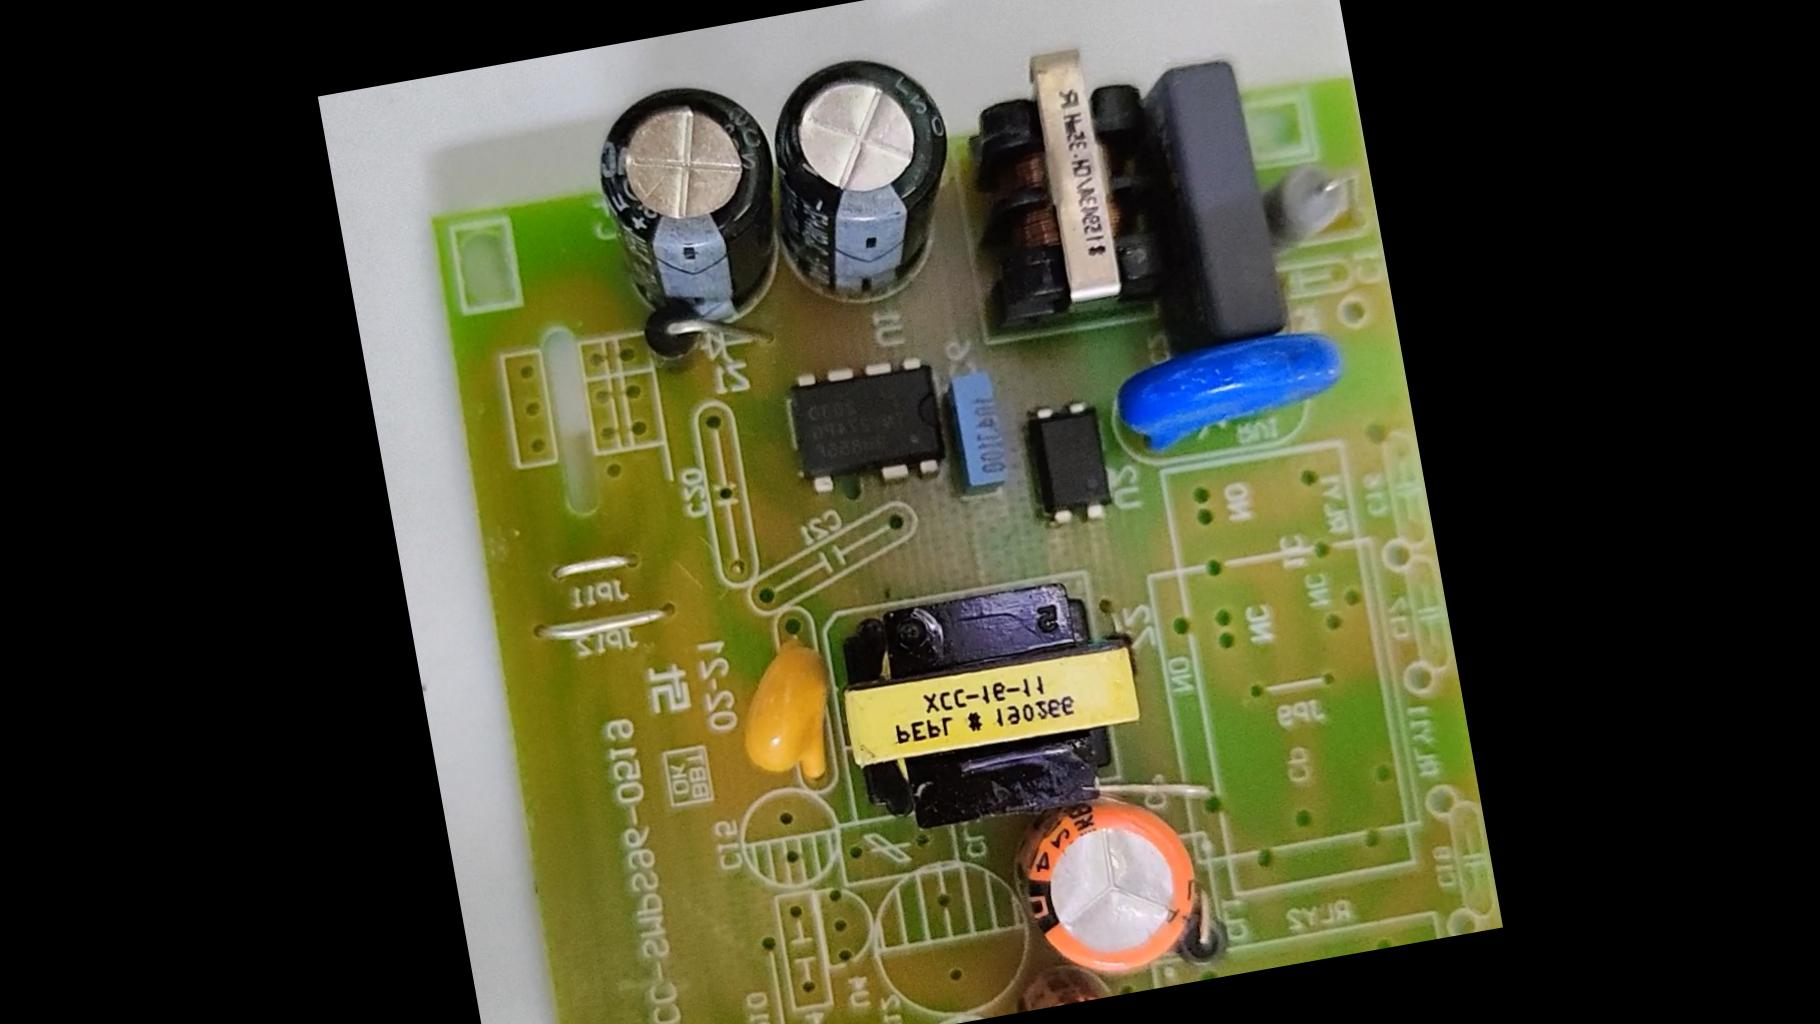Cap1: (989, 776, 1225, 999)
Cap2: (999, 961, 1139, 1014)
Cap3: (746, 38, 977, 316)
Cap4: (577, 68, 792, 353)
MOSFET: (767, 341, 954, 509)
Mov: (1095, 318, 1364, 470)
Resistor: (1255, 150, 1366, 254)
Transformer: (810, 556, 1166, 844), (959, 31, 1174, 328)
